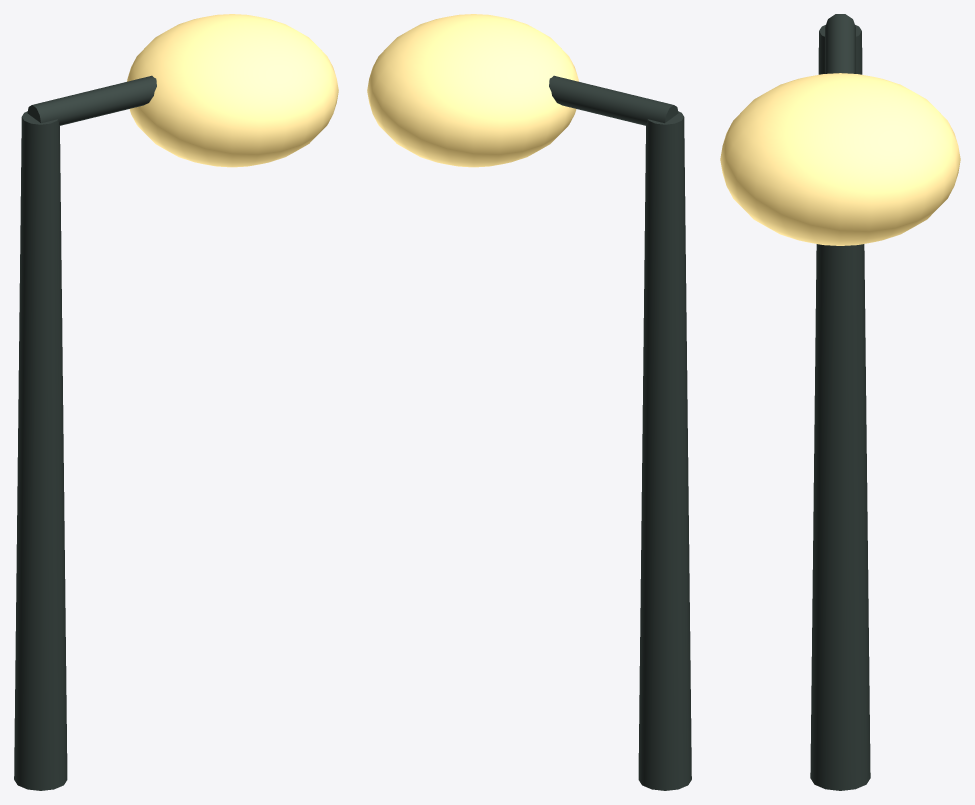
File: lamp_post.glb
3 renders of one model, left to right at view 1: azimuth 30°, elevation 25°; view 2: azimuth 150°, elevation 25°; view 3: azimuth 270°, elevation 25°, orthographic. The views are drawn at different scales.
Visible parts, largest first — view 1: pole, lamp_glow, arm; view 2: pole, lamp_glow, arm; view 3: lamp_glow, pole, arm.
Boxes of the visible parts, x1,y1,x2,y2 form: pole: (14, 111, 67, 790); lamp_glow: (127, 14, 338, 167); arm: (27, 75, 156, 125); pole: (638, 111, 691, 790); lamp_glow: (367, 14, 578, 167); arm: (549, 75, 678, 125); lamp_glow: (720, 73, 960, 245); pole: (810, 25, 870, 790); arm: (825, 14, 855, 73).
Size of the model in its own units: 0.465 by 1.02 by 0.28.
